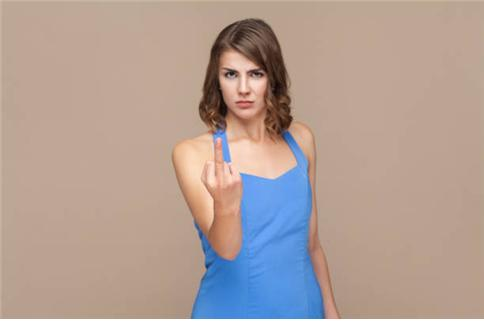insulting_gesture: (198, 137, 244, 213)
